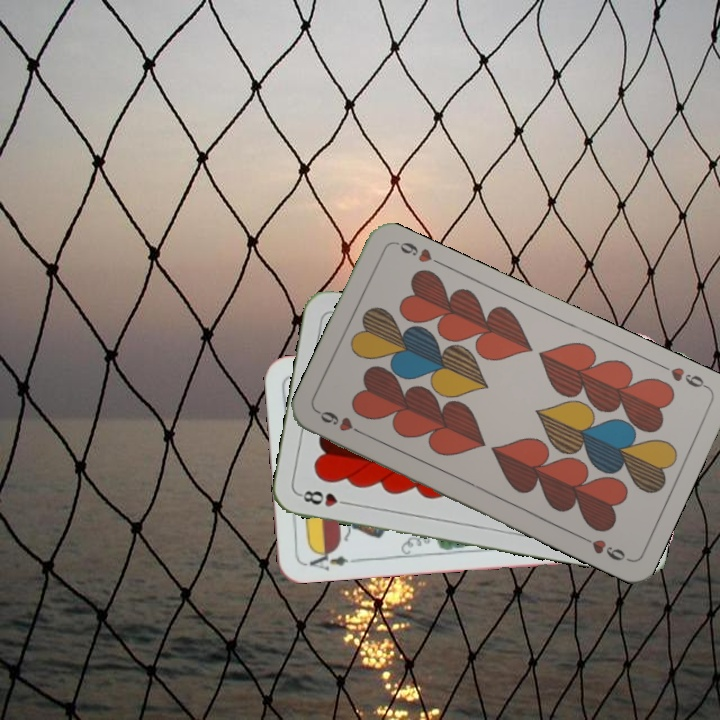EA: (306, 545, 361, 573)
H8: (296, 486, 355, 510)
H9: (314, 406, 369, 439), (655, 359, 711, 391)
